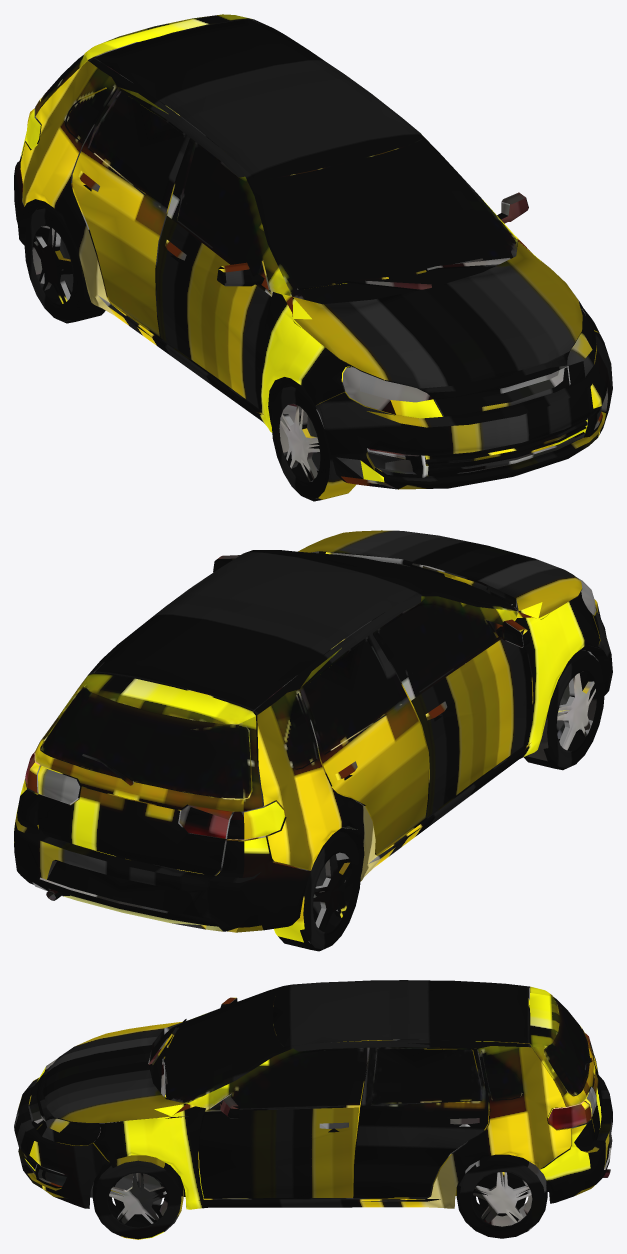
Rendered from hatch.glb.
3 views of the same model, one above another, from view 1: azimuth 30°, elevation 25°; view 2: azimuth 150°, elevation 25°; view 3: azimuth 270°, elevation 25° (orthographic). The views are drawn at different scales.
Parts seen in each view (by area): view 1: lod0; view 2: lod0; view 3: lod0.
Part boxes in pixels (left/top/right/bottom): lod0: left=14, top=14, right=612, bottom=501; lod0: left=14, top=530, right=612, bottom=951; lod0: left=14, top=980, right=612, bottom=1239.
Size of what is drawn, in the model's own units: 1.8 by 1.4 by 4.1.
Materials: 1 (1 with a texture image).
